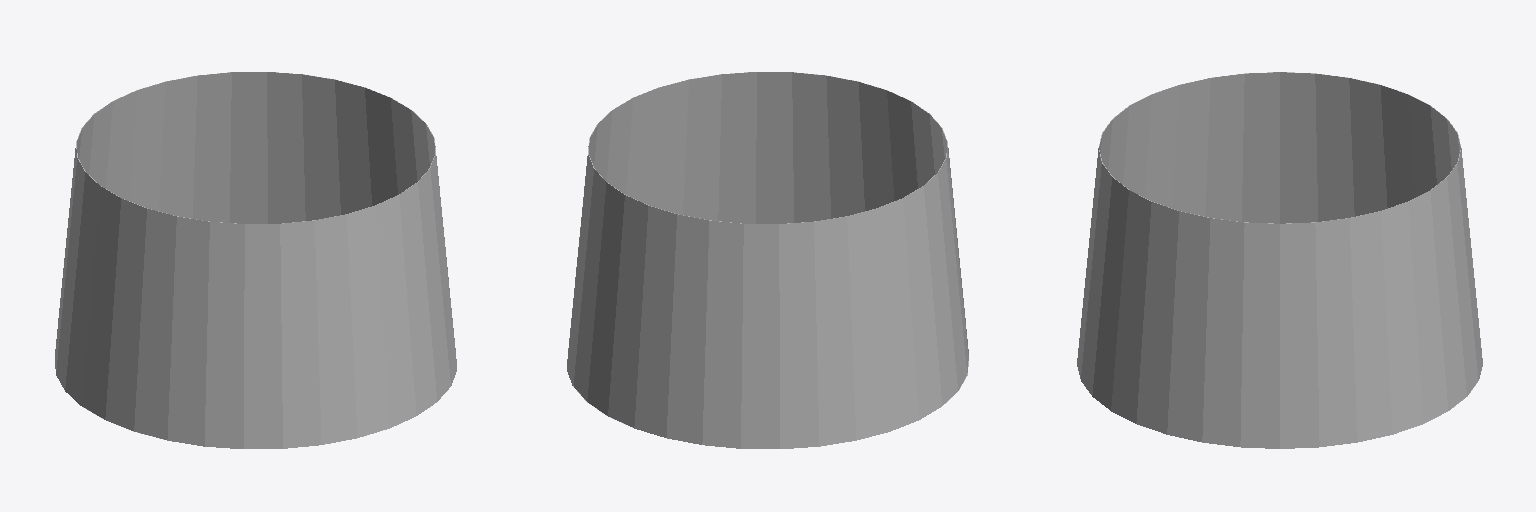
Rendered from etichetta.obj.
The picture shows the model from 3 angles: view 1: azimuth 30°, elevation 25°; view 2: azimuth 150°, elevation 25°; view 3: azimuth 270°, elevation 25°; orthographic projection.
Visible parts, largest first — view 1: etichetta; view 2: etichetta; view 3: etichetta.
Boxes of the visible parts, x1,y1,x2,y2 form: etichetta: [55, 72, 456, 448]; etichetta: [567, 72, 968, 448]; etichetta: [1077, 72, 1482, 448].
Bounding box in the file's own units: 124 × 73.62 × 125.